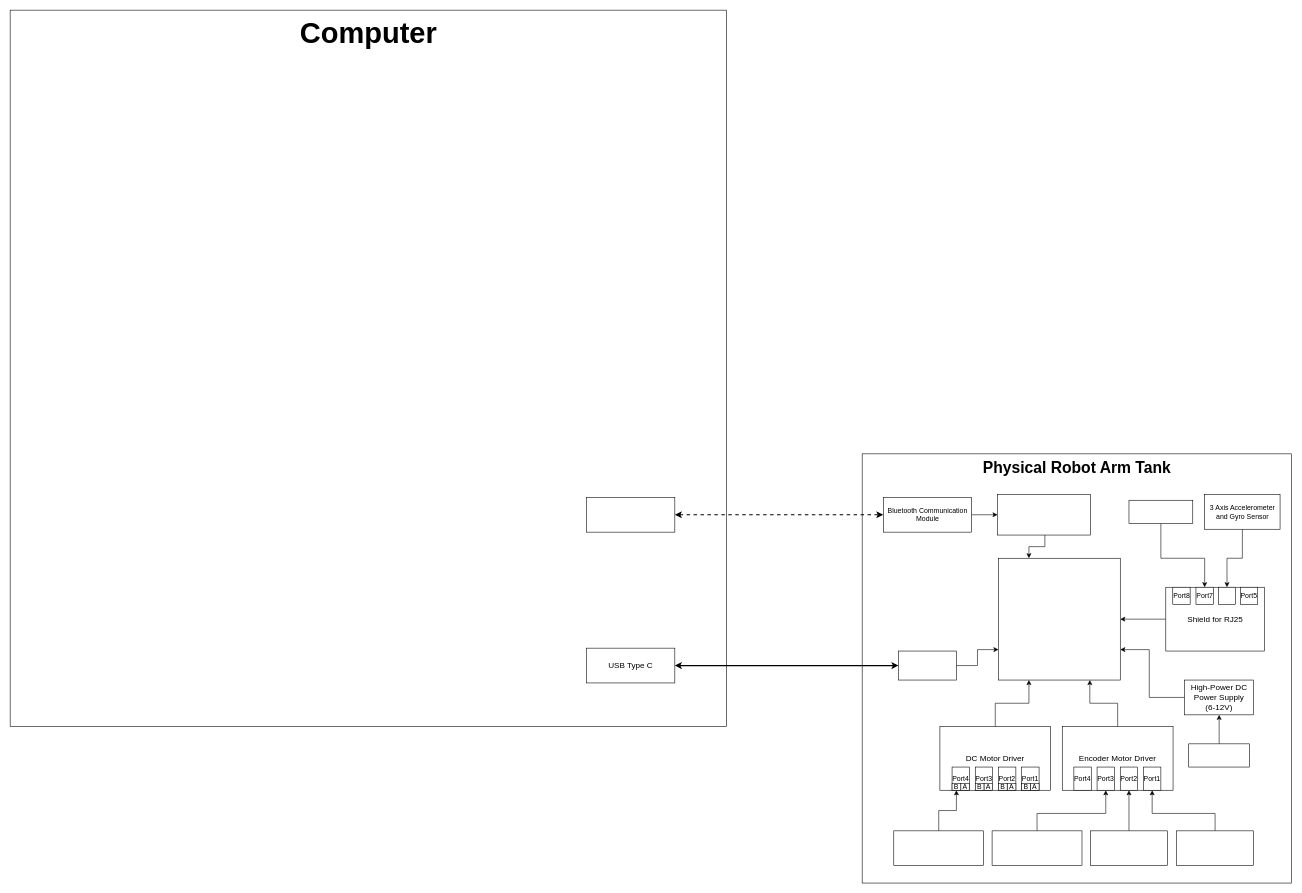
This 1302x893 diagram has some shape labels left out. Each missing label, with the centre of its shape:
"Battery Holder 6 x AA" goes at point (1219, 755).
"Bluetooth" goes at point (630, 514).
"DC Motor (Makeblock Robot Gripper)" goes at point (938, 848).
"Encoder Motor 9V/185RPM (Left Track)" goes at point (1129, 848).
"Encoder Motor 9V/185RPM (Right Track)" goes at point (1215, 848).
"Encoder Motor 9V/86RPM (Arm Up/Down Movement)" goes at point (1037, 848).
"MegaPi" goes at point (1059, 619).
"Port6" goes at point (1227, 596).
"Ultrasonic Sensor" goes at point (1160, 511).
"USB-B type" goes at point (927, 665).
"Wireless Communication Module" goes at point (1043, 514).
